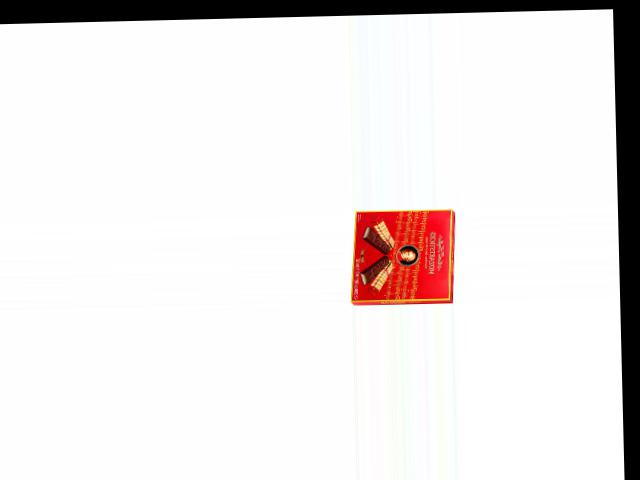chocolate: (345, 206, 455, 306)
